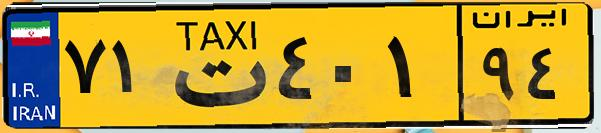0: (330, 28, 385, 110)
1: (385, 28, 445, 110), (110, 28, 158, 98)
4: (270, 28, 330, 110), (525, 38, 570, 115)
7: (57, 26, 110, 100)
9: (475, 38, 525, 113)
ت: (158, 12, 270, 120)
